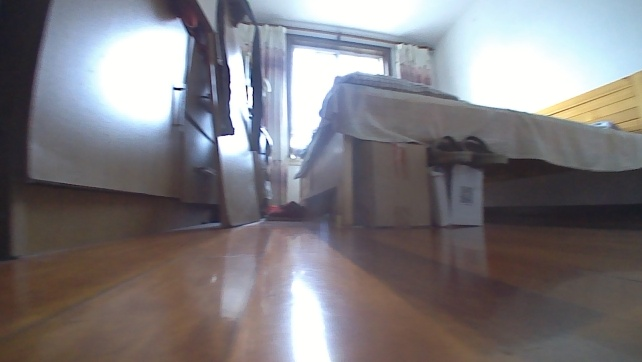bed: (295, 68, 641, 230)
